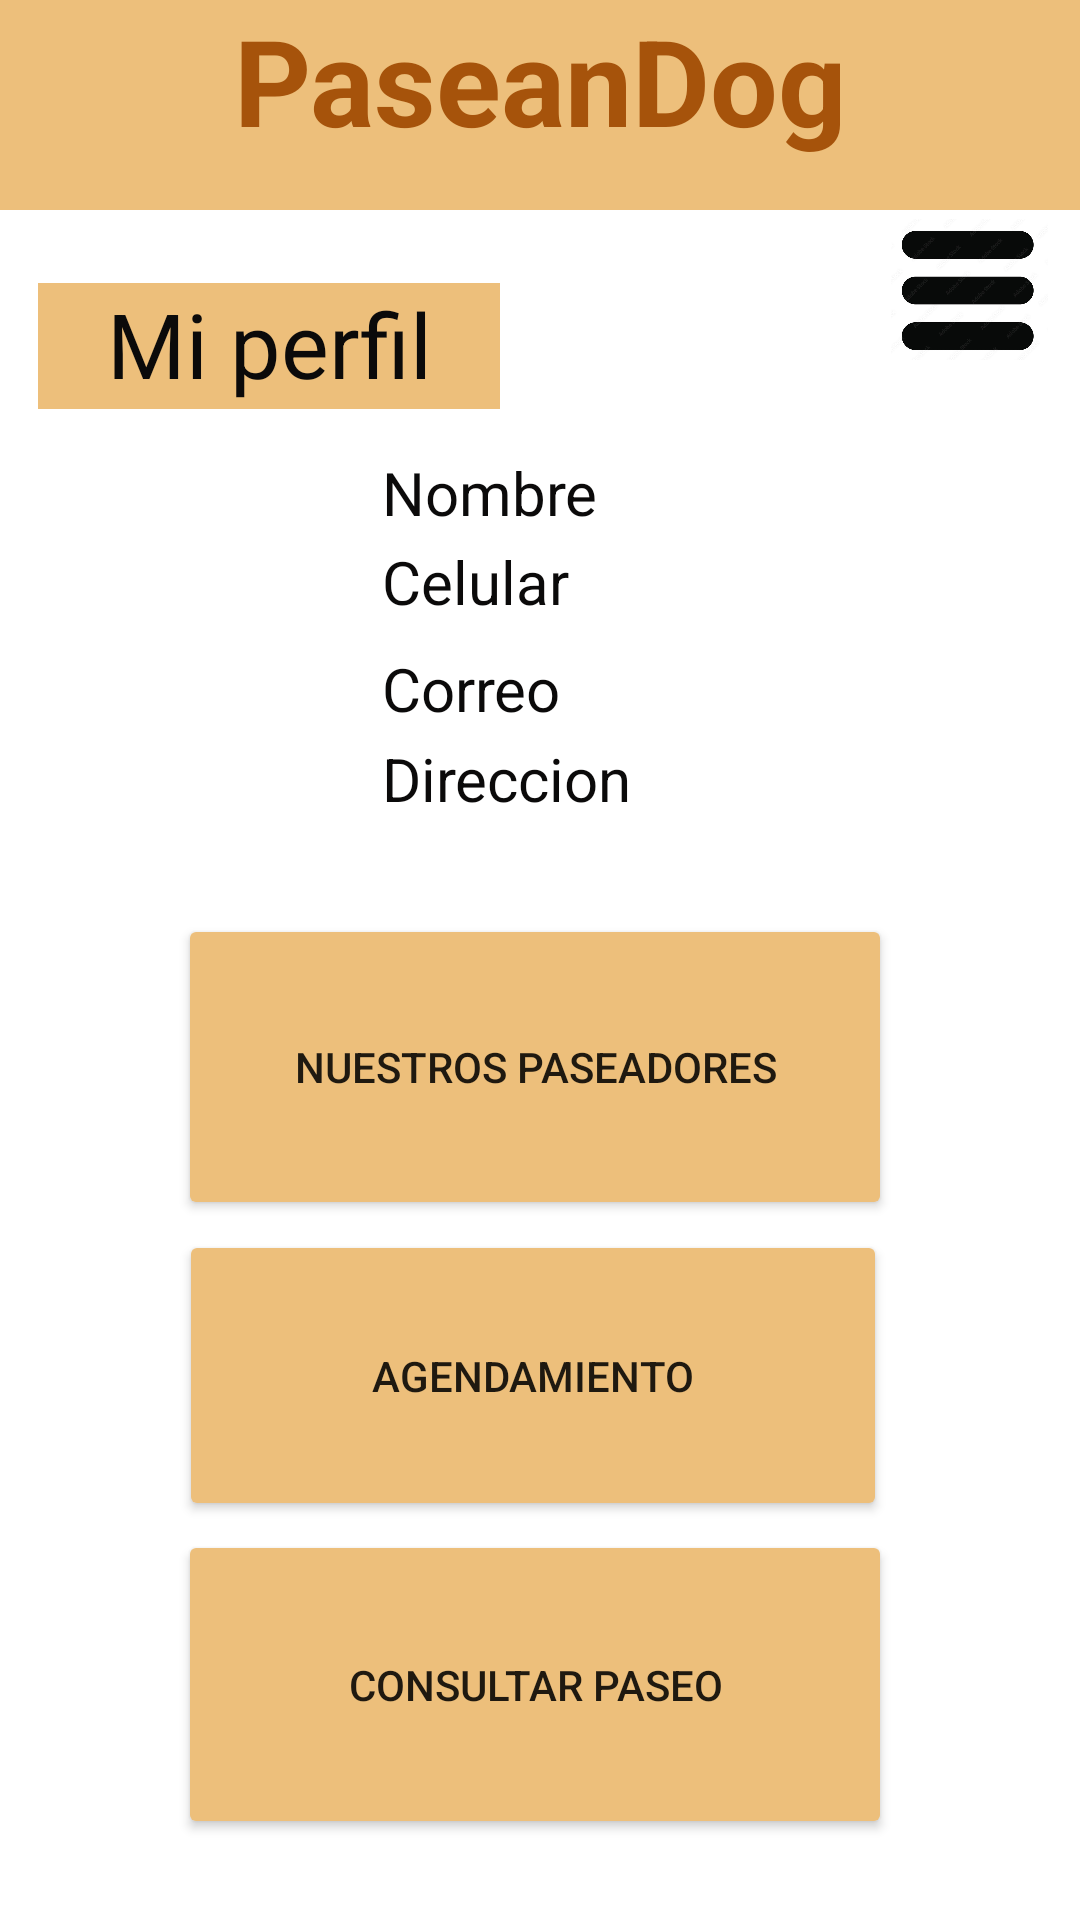

Where to tap for icons on this 1080px×1920px app screen, as (x=x, y=y):
opciones: (x=968, y=290)
